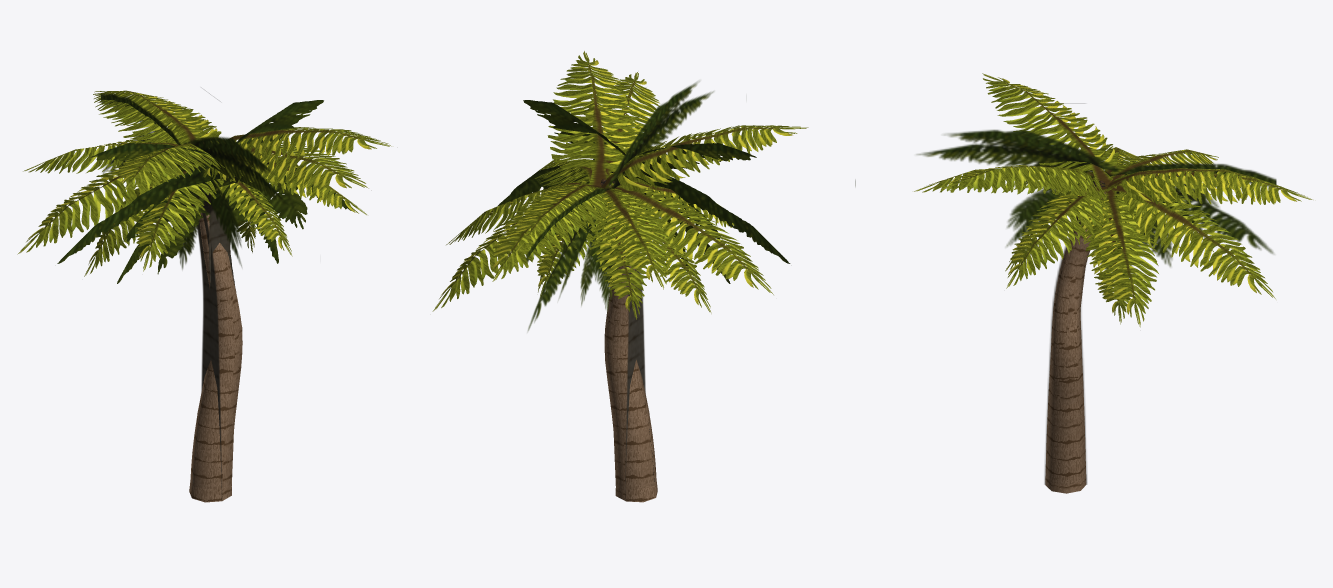
The model's file is palm.gltf.
3 views of the same model, side by side, from view 1: azimuth 30°, elevation 25°; view 2: azimuth 150°, elevation 25°; view 3: azimuth 270°, elevation 25° (orthographic). The views are drawn at different scales.
Visible parts, largest first — view 1: HighRes, 2D, LowRes; view 2: HighRes, 2D, LowRes; view 3: HighRes, 2D, LowRes.
Part boxes in pixels (x1,y1,x2,y2): HighRes: (17,90,397,500); 2D: (57,93,351,499); LowRes: (160,128,242,502); HighRes: (432,51,808,500); 2D: (498,81,790,500); LowRes: (573,148,657,502); HighRes: (914,73,1312,493); 2D: (855,103,1276,484); LowRes: (1045,151,1141,485).
Size of what is drawn, in the model's own units: 46.8 by 46.8 by 51.5.
5 materials, 5 textured.
